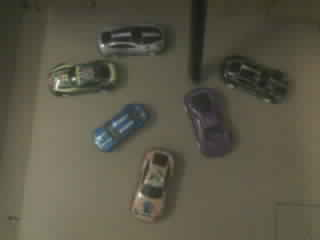Car: (185, 88, 230, 156), (221, 56, 287, 102), (132, 149, 173, 220), (96, 104, 148, 151), (49, 60, 116, 95), (98, 25, 163, 55)
